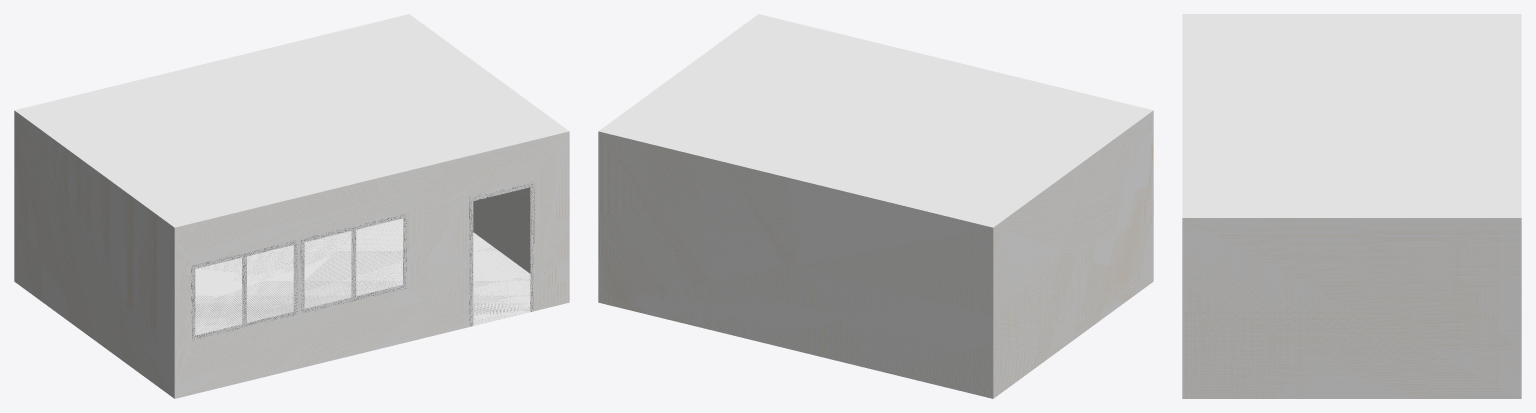
Rendered from classroom-model.dae.
The picture shows the model from 3 angles, left to right: view 1: azimuth 30°, elevation 25°; view 2: azimuth 150°, elevation 25°; view 3: azimuth 270°, elevation 25°; orthographic projection. The views are drawn at different scales.
Parts seen in each view (by area): view 1: SketchUp (×6); view 2: SketchUp (×2); view 3: SketchUp (×2).
Part boxes in pixels (<box>): SketchUp (×6): <box>14,14,569,398</box>; SketchUp (×2): <box>598,14,1153,398</box>; SketchUp (×2): <box>1182,14,1521,398</box>.
Bounding box in the file's own units: 940 × 661 × 390.
4 materials, 1 textured.
